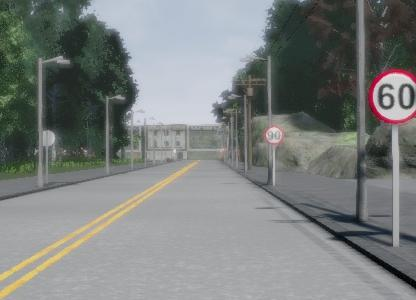Speed_60: (373, 63, 416, 127)
